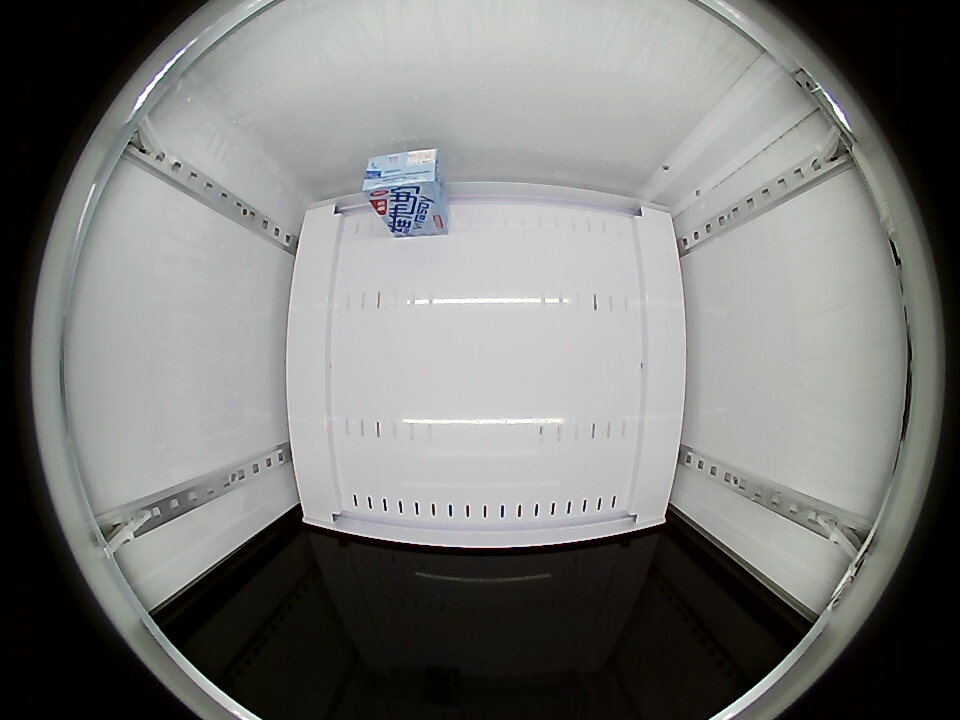weitanaiditang: (362, 148, 442, 204)
